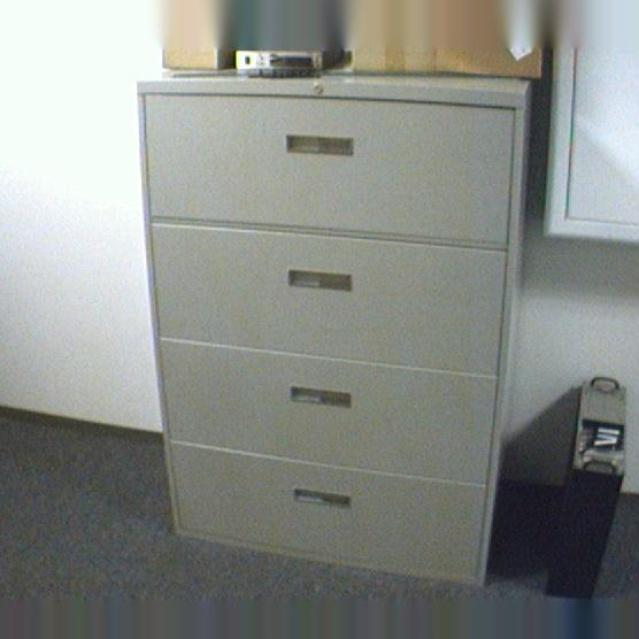Filing Cabinet: (135, 77, 524, 589)
